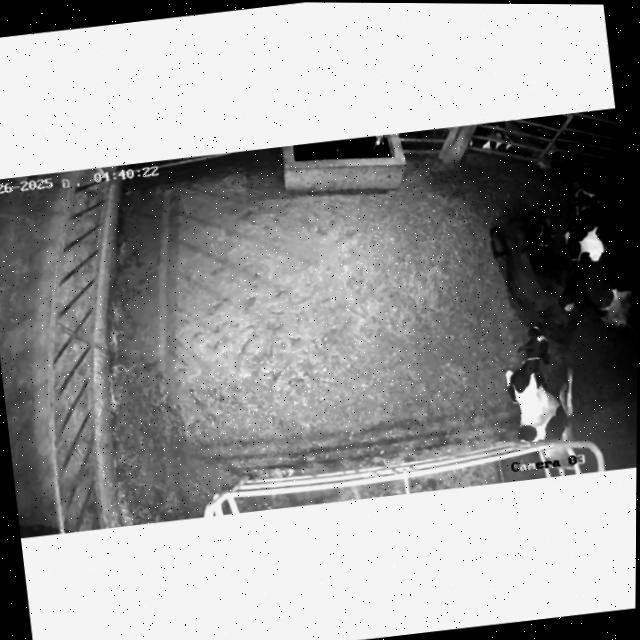lay: (479, 319, 611, 474), (478, 203, 588, 350), (563, 171, 639, 343)
